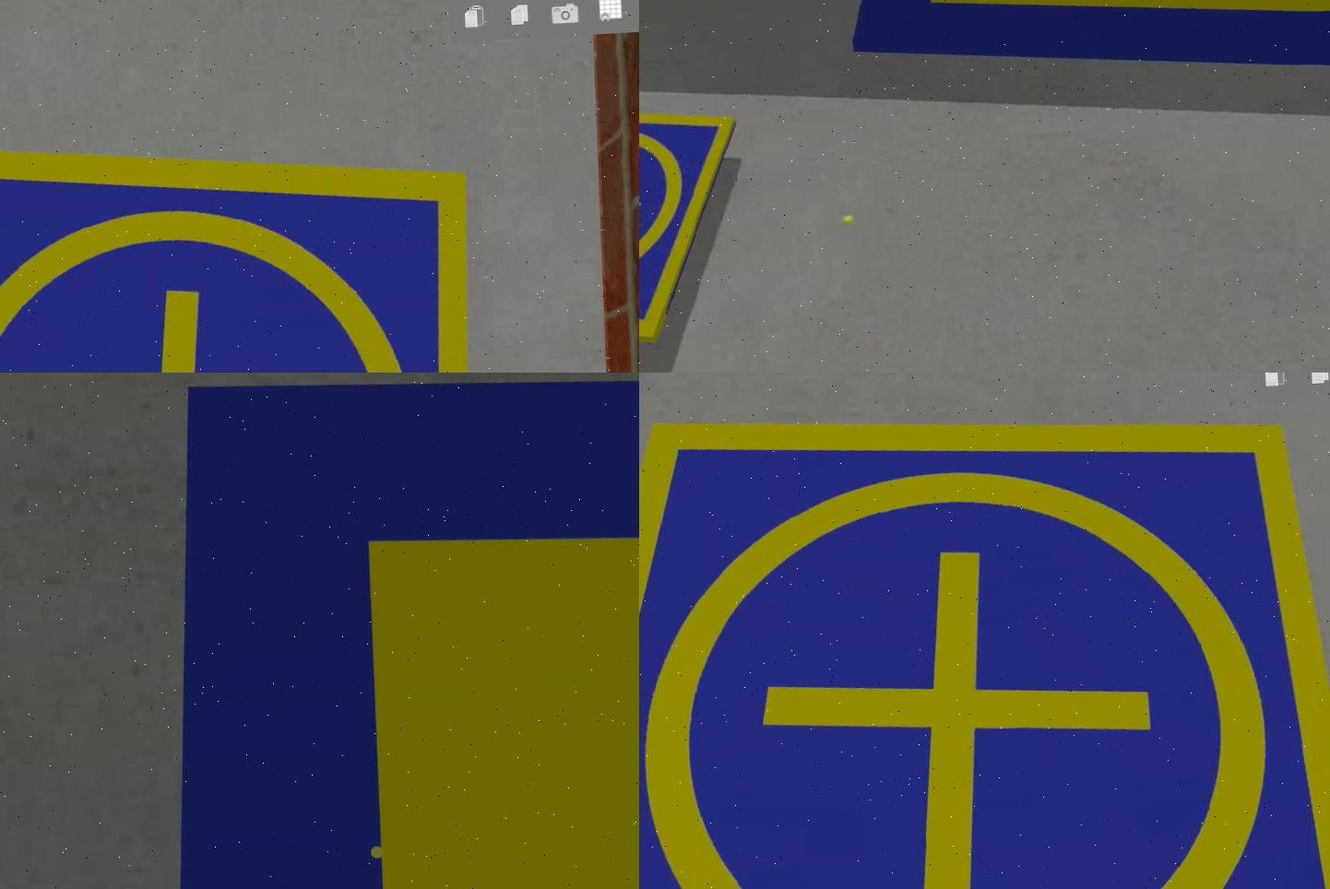large_base: (130, 373, 637, 889), (845, 1, 1328, 93)
small_base: (637, 387, 1328, 889), (0, 118, 496, 373), (637, 98, 747, 352)
